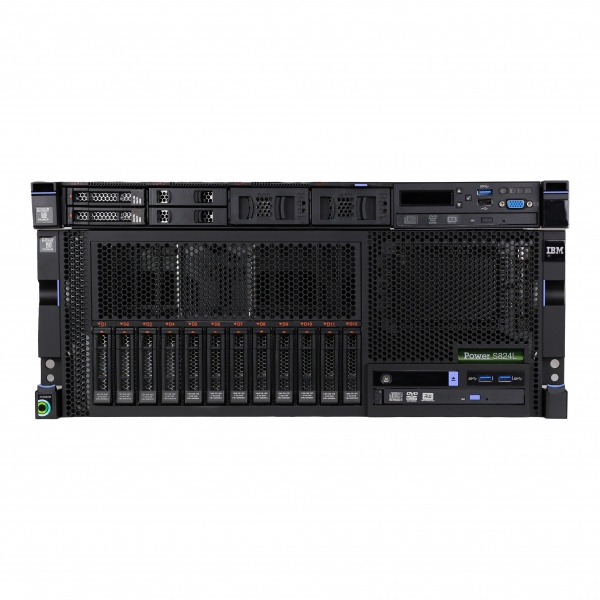ibm-server: (17, 168, 579, 425)
